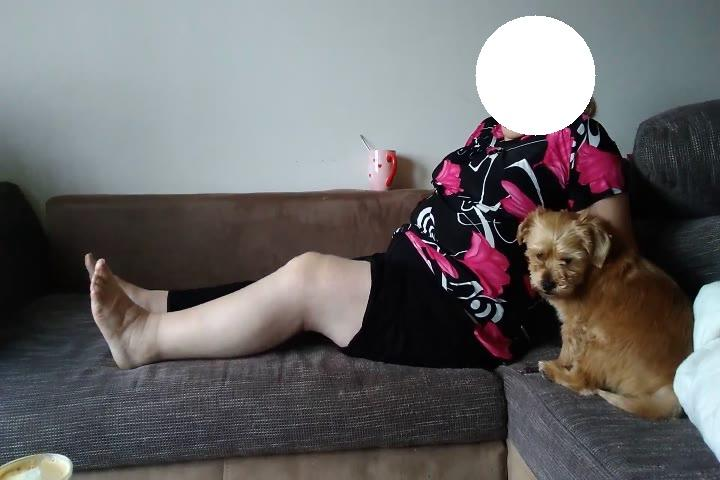lower_body: (82, 236, 516, 380)
